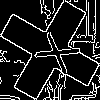X: (25, 25, 81, 77)
